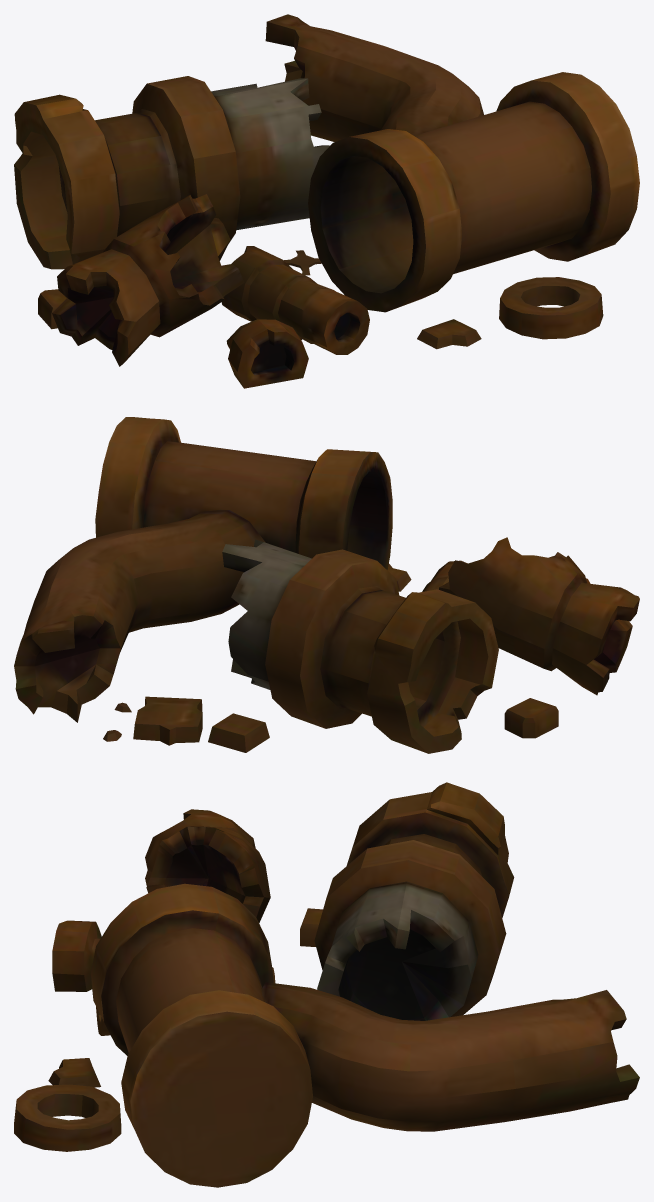
File: sewer_pipe_scraps.fbx
3 views of the same model, one above another, from view 1: azimuth 30°, elevation 25°; view 2: azimuth 150°, elevation 25°; view 3: azimuth 270°, elevation 25° (orthographic). The views are drawn at different scales.
Visible parts, largest first — view 1: sewer_pipe_scraps; view 2: sewer_pipe_scraps; view 3: sewer_pipe_scraps.
Part boxes in pixels (box(x1,y1,x2,y2)): sewer_pipe_scraps: box(14, 14, 639, 388); sewer_pipe_scraps: box(14, 417, 639, 753); sewer_pipe_scraps: box(14, 782, 639, 1187).
Size of the model in its own units: 136 by 43.66 by 130.
